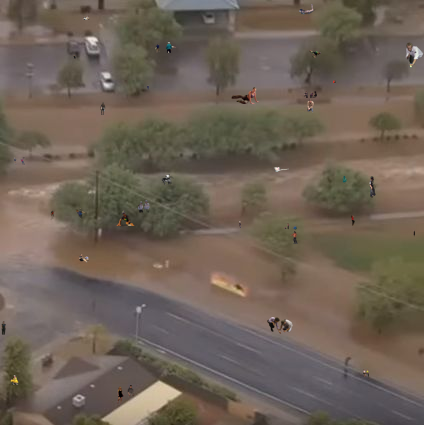Human: (299, 4, 325, 24), (50, 208, 87, 222), (405, 42, 424, 68), (231, 87, 260, 104), (267, 317, 293, 334), (117, 385, 134, 404), (116, 210, 135, 226), (155, 42, 176, 53), (137, 200, 150, 213), (369, 176, 376, 198), (161, 174, 174, 185), (290, 231, 298, 244), (307, 99, 314, 113), (309, 50, 321, 58), (270, 167, 289, 172), (284, 223, 297, 230), (304, 91, 317, 98), (10, 375, 19, 385), (79, 254, 89, 263), (14, 157, 25, 165), (100, 102, 106, 115), (1, 321, 6, 335), (363, 369, 369, 377), (351, 215, 355, 226), (82, 15, 90, 20), (342, 176, 347, 183), (73, 55, 76, 60), (413, 230, 415, 237), (239, 221, 241, 228), (147, 85, 149, 90), (333, 80, 336, 83)
